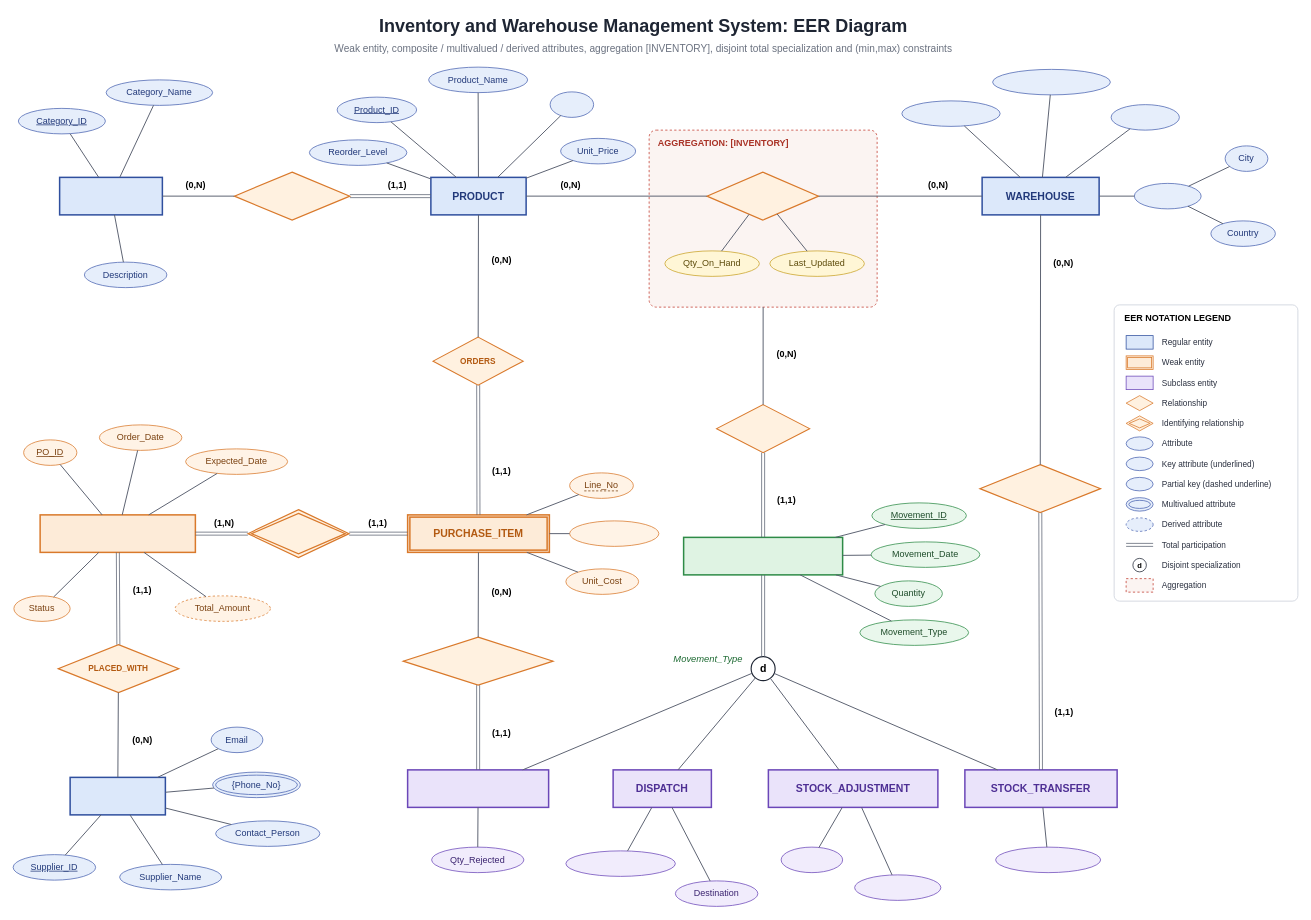
The diagram is 1311 pixels wide and 920 high, and some of its shapes have lost their labels. Here are the shapes that lost their labels. From the top down, the centre of each, then its label:
point 1051,82: Warehouse_Name
point 571,104: SKU
point 950,113: Warehouse_ID
point 1144,117: Capacity
point 110,195: CATEGORY
point 291,195: BELONGS_TO
point 762,195: STOCKED_IN
point 1167,196: Location
point 763,428: AFFECTS
point 1040,488: TRANSFER_TO
point 117,533: PURCHASE_ORDER
point 298,533: CONTAINS
point 614,533: Qty_Ordered
point 762,555: STOCK_MOVEMENT
point 477,660: RECEIVED_AGAINST
point 117,795: SUPPLIER
point 477,788: GOODS_RECEIPT
point 620,863: Customer_Name
point 811,859: Reason
point 1048,859: Transfer_Status
point 897,887: Adjust_Type
